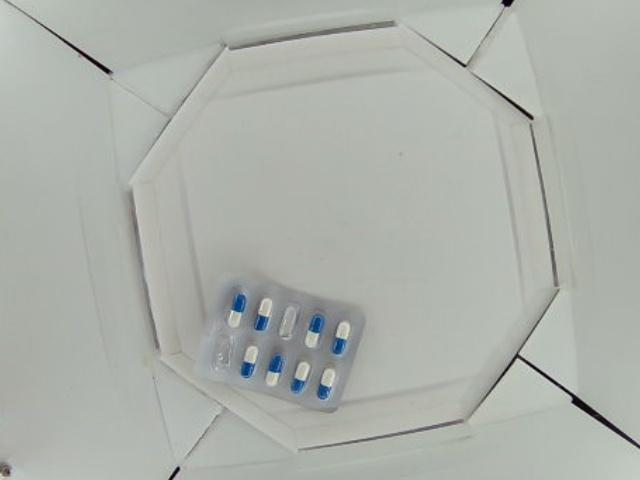Medicine: (193, 265, 365, 411)
